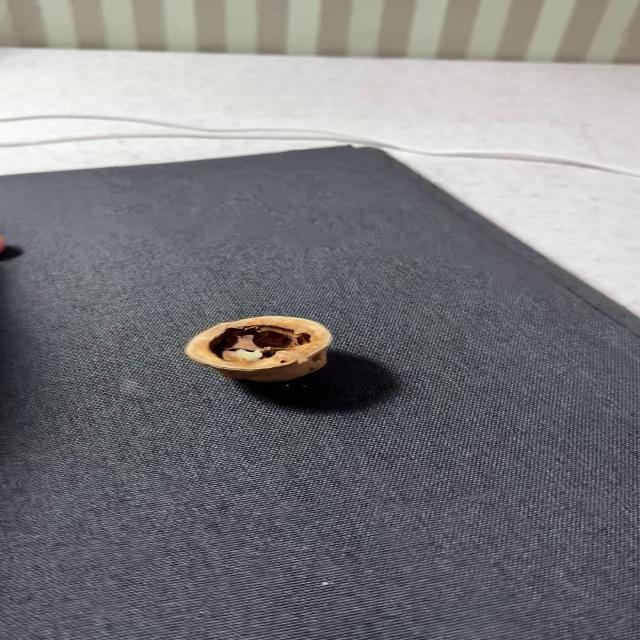nuts-bad0.5: (185, 316, 332, 382)
